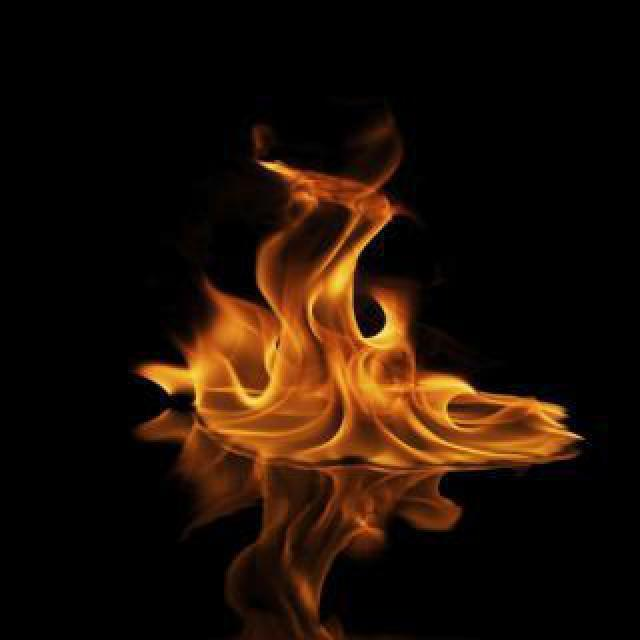Fire: (124, 122, 578, 480)
